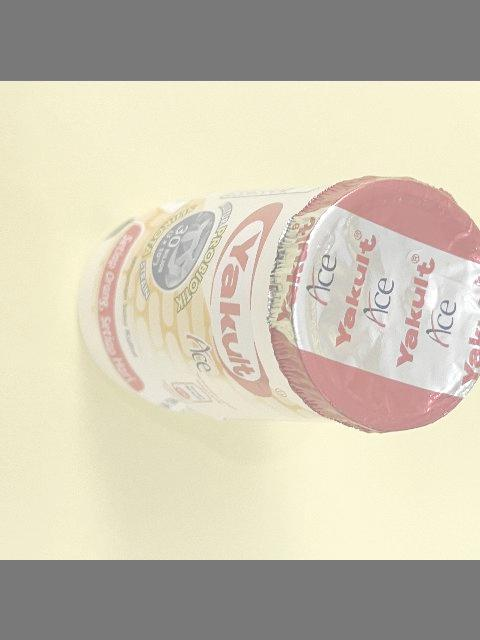plasticbottle: (72, 172, 480, 433)
